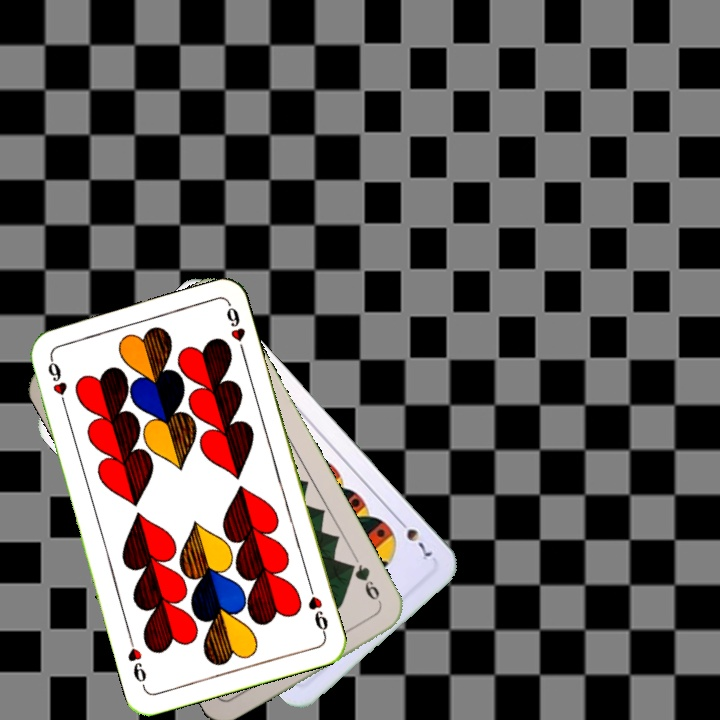G9: (343, 559, 385, 609)
H9: (43, 353, 70, 412), (304, 581, 331, 639)
S7: (393, 513, 435, 563)
